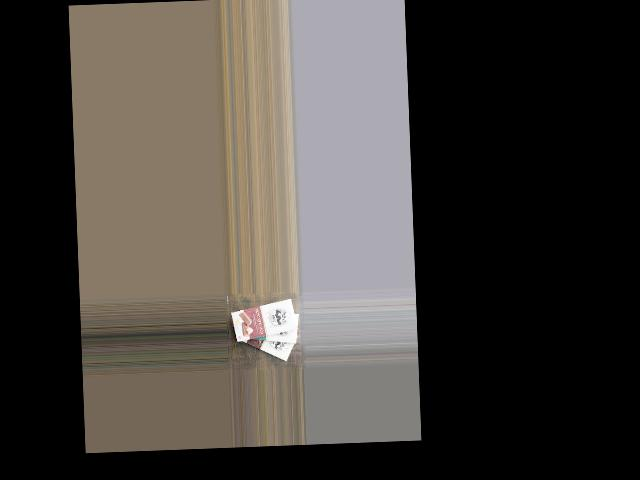chocolate: (231, 319, 300, 363)
